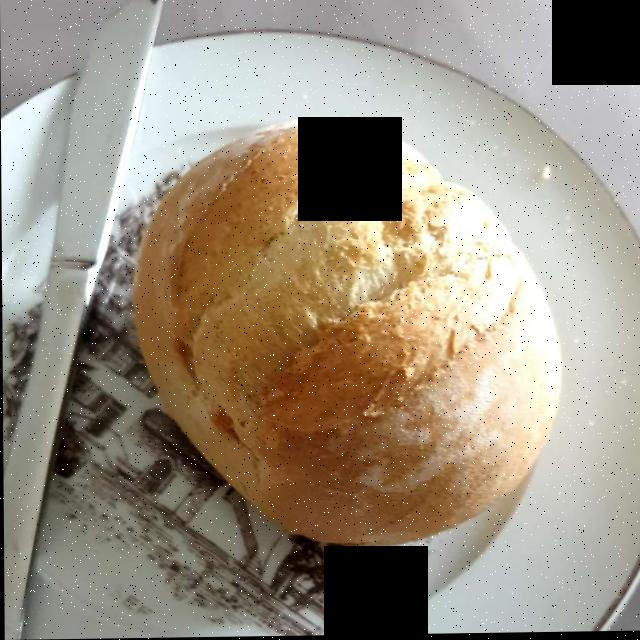bread-white: (139, 125, 556, 549)
